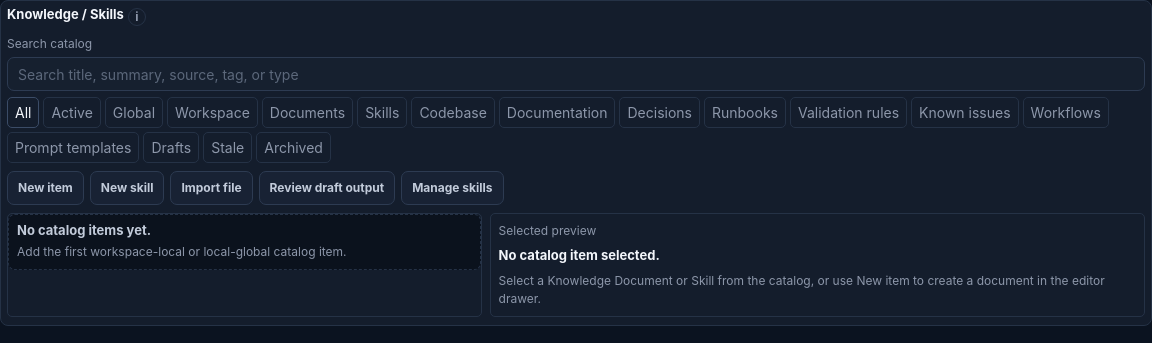
Test: SkillLibraryWidget › renders the empty workspace-local safety state
Check: the button "Active" is shown, box top-left (44, 97), bottom-right (101, 128)
Check: the button "Documents" is shown, box top-left (262, 97), bottom-right (353, 128)
Click the button "Skills" at point(382, 112), box top-left (357, 97), bottom-right (407, 128)
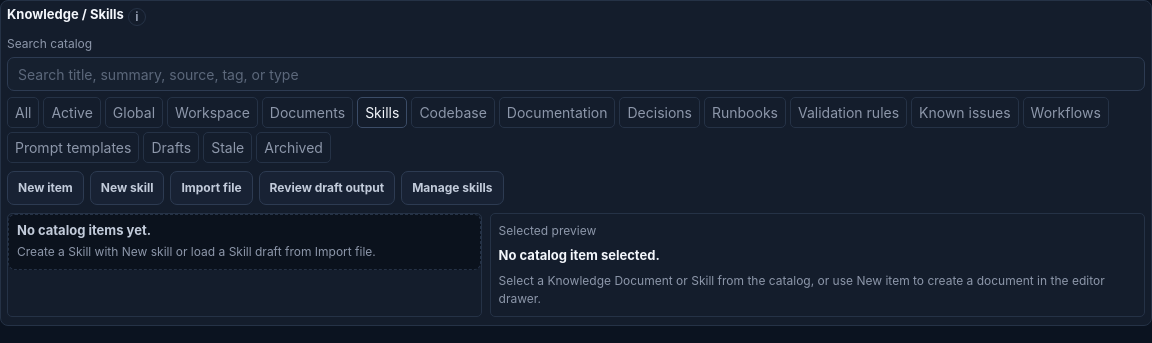
Check: the text "Create a Skill with New skill or load a Skill draft from Import file." is shown, box top-left (17, 244), bottom-right (376, 259)
